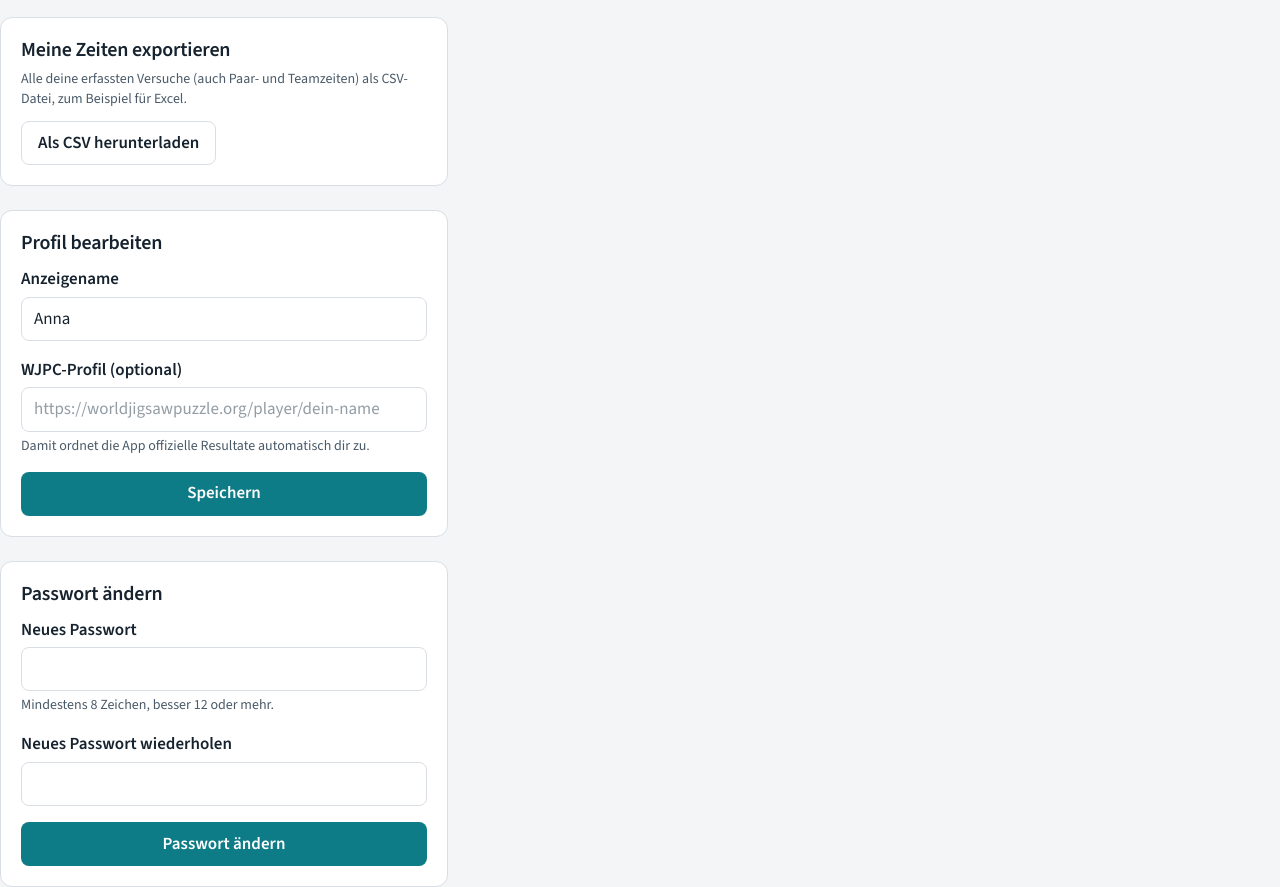
Test: Passwort ändern (Rauchtest) › zeigt Fehler von Supabase verständlich
(page scrolled)
Type "langeslangespasswort" into the password field labelled "Neues Passwort Mindestens 8 Zeichen, besser 12 oder mehr." at (224, 669), box [21,647,427,691]
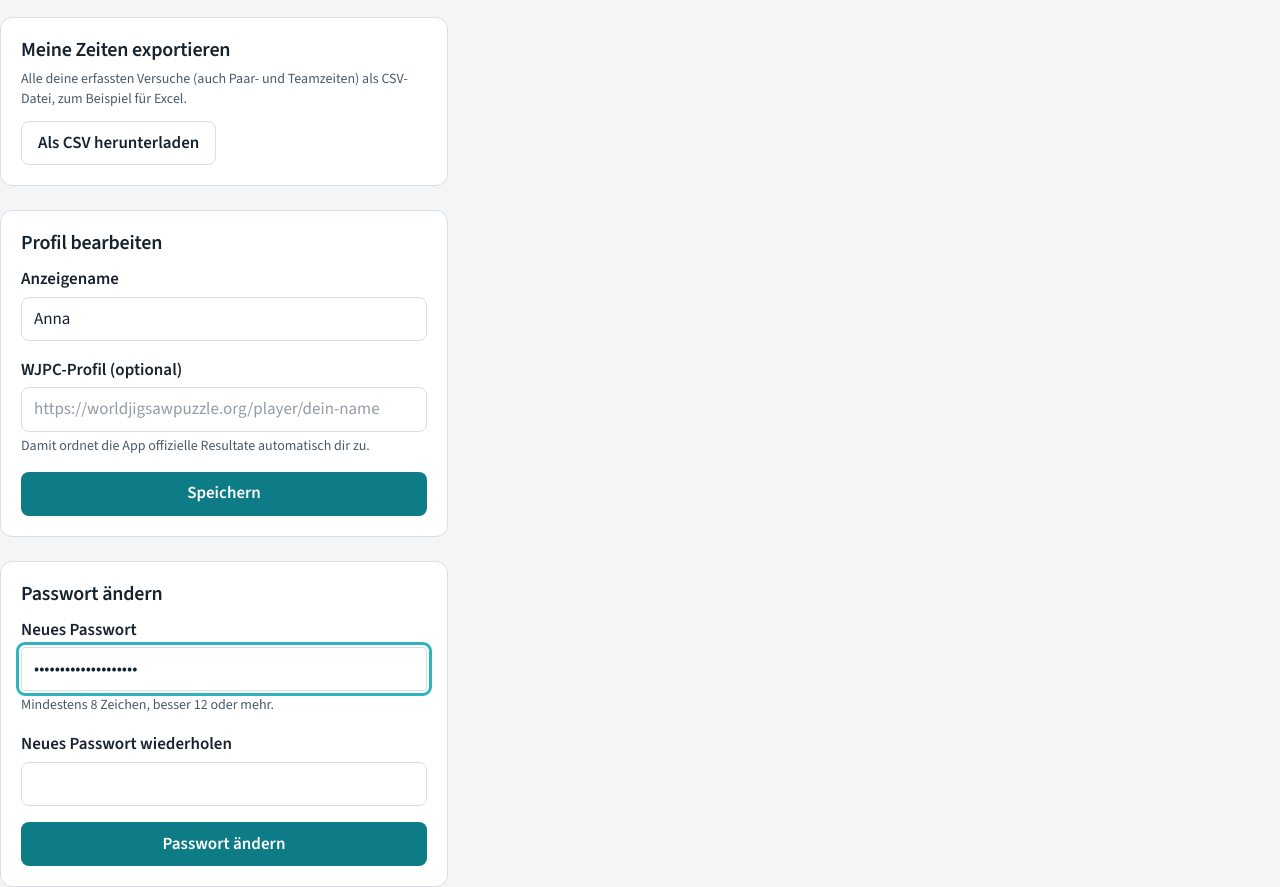
Type "langeslangespasswort" into the password field labelled "Neues Passwort wiederholen" at (224, 784), box [21,762,427,806]
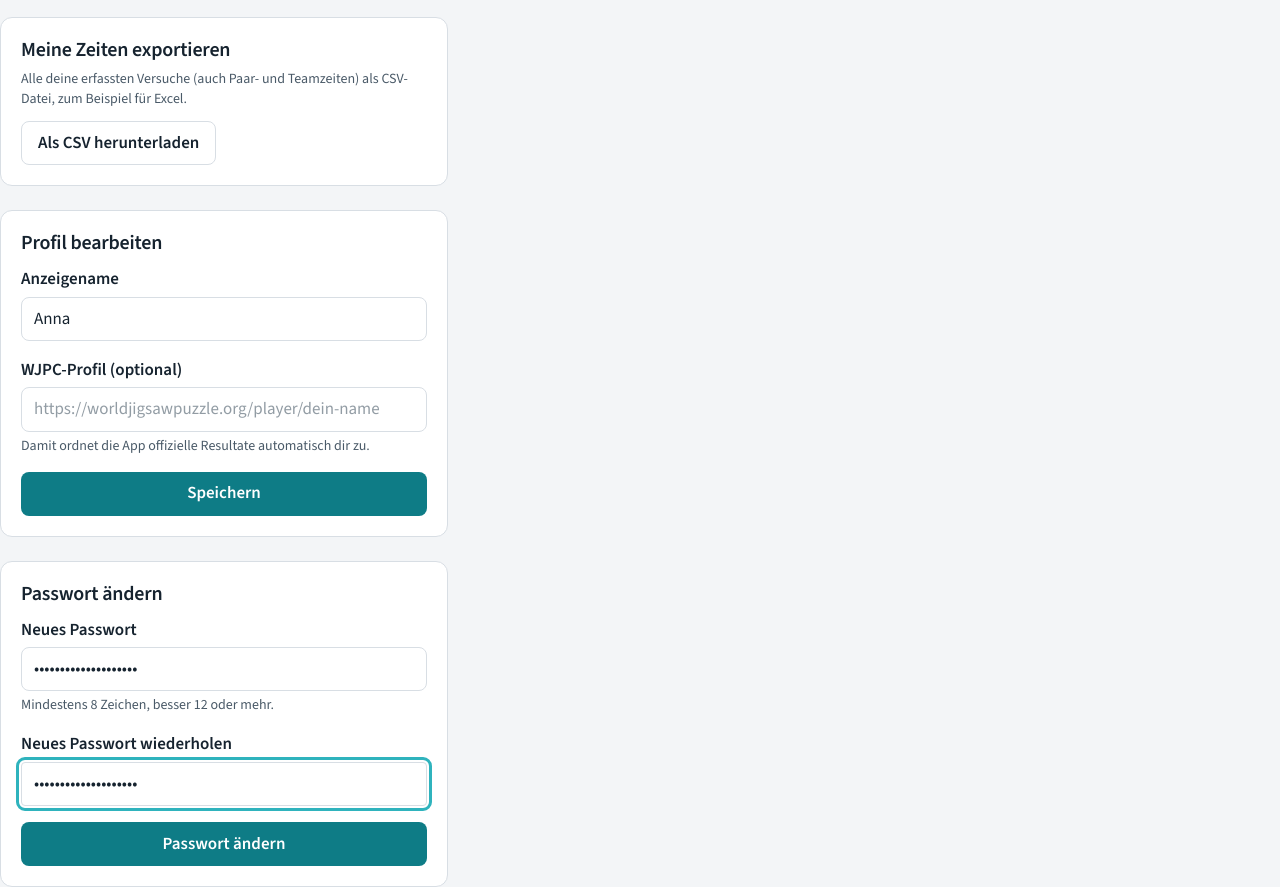
Click the button "Passwort ändern" at (224, 844), box [21,822,427,866]
(page scrolled)
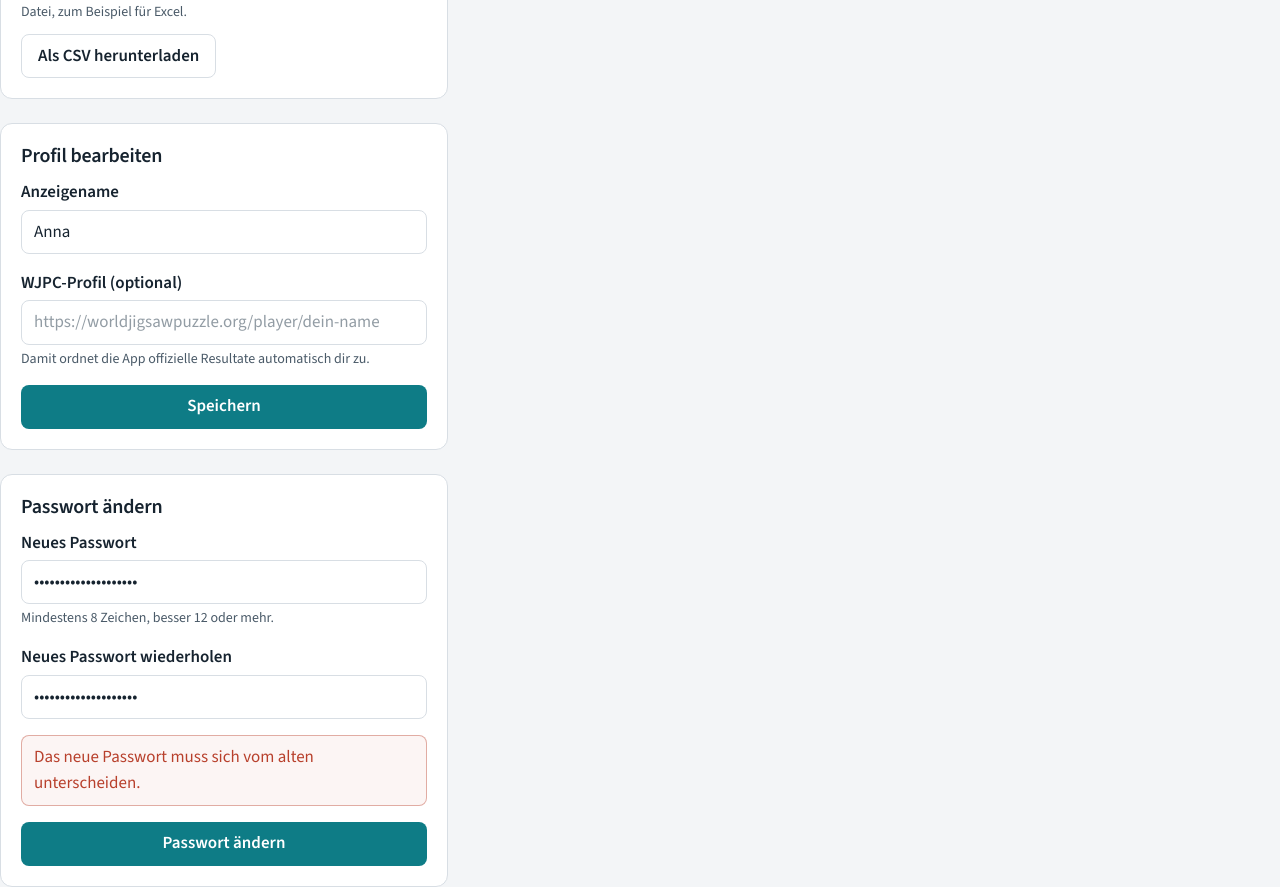
Check: the text "Das neue Passwort muss sich vom alten unterscheiden." is shown, box [21,735,427,806]
